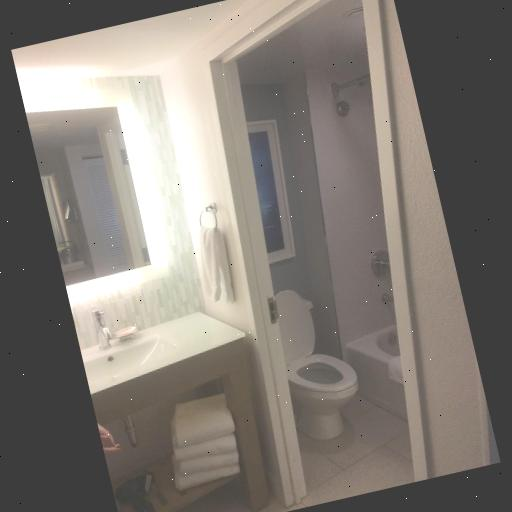clean mirror: (26, 92, 152, 288)
folded_towel: (83, 308, 252, 396), (160, 388, 242, 490), (182, 202, 240, 312)
